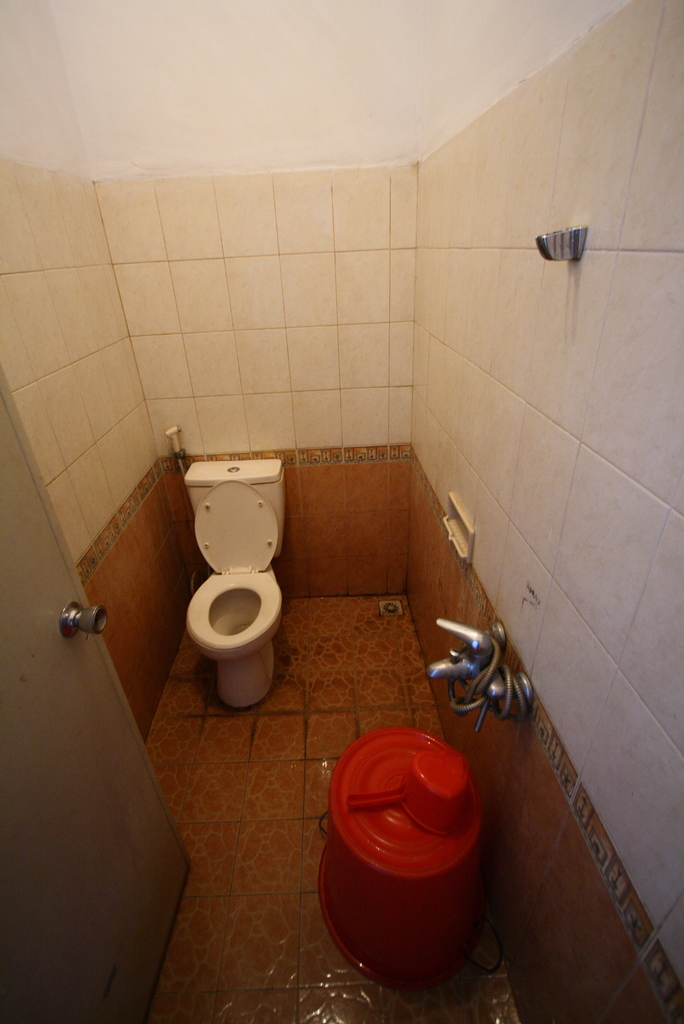tap: (428, 634, 517, 748)
